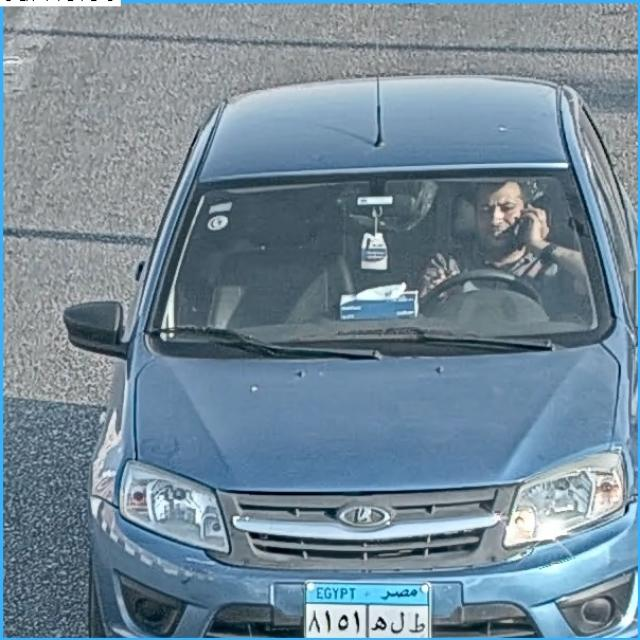windshield: (159, 178, 613, 349)
